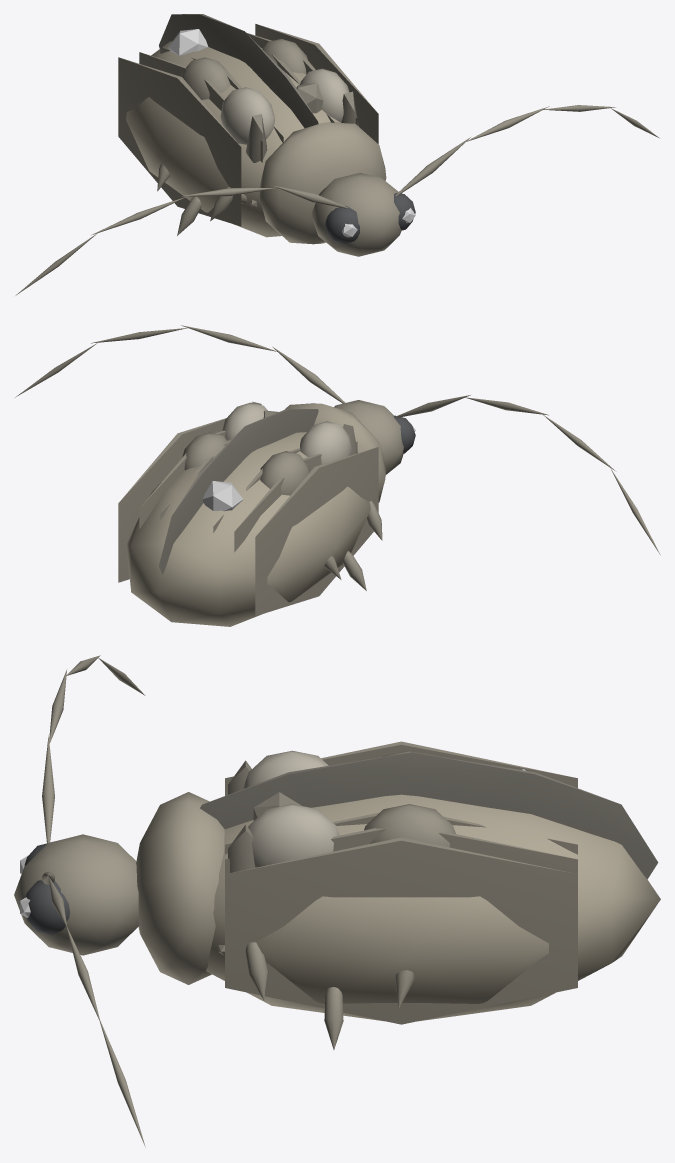
File: rhytiphora-bankii.glb
3 views of the same model, one above another, from view 1: azimuth 30°, elevation 25°; view 2: azimuth 150°, elevation 25°; view 3: azimuth 270°, elevation 25° (orthographic). The views are drawn at different scales.
Parts seen in each view (by area): view 1: elytra, pronotum, head, tubercle0-r, tubercle1-r, tubercle0-l, eye-r, tubercle1-l, eye-l, antenna-l0, antenna-r1, leg1-r0 (+3 smaller); view 2: elytra, head, pronotum, tubercle0-r, tubercle1-r, tubercle1-l, tubercle0-l, antenna-l0, antenna-l1, antenna-r0; view 3: elytra, pronotum, head, tubercle0-l, tubercle1-l, eye-l, tubercle0-r, leg1-l0, antenna-r0, leg0-l0.
Boxes of the visible parts, box(x1,y1,x2,y2) form: elytra: box(118, 14, 378, 237); pronotum: box(259, 122, 386, 244); head: box(311, 172, 401, 256); tubercle0-r: box(220, 87, 274, 144); tubercle1-r: box(181, 57, 230, 99); tubercle0-l: box(300, 68, 349, 122); eye-r: box(325, 205, 359, 244); tubercle1-l: box(262, 38, 307, 74); eye-l: box(394, 193, 415, 230); antenna-l0: box(395, 137, 470, 195); antenna-r1: box(180, 187, 276, 196); leg1-r0: box(177, 196, 201, 235); elytra: box(118, 401, 378, 626); head: box(334, 400, 403, 474); pronotum: box(285, 403, 386, 502); tubercle0-r: box(300, 421, 352, 464); tubercle1-r: box(260, 451, 309, 495); tubercle1-l: box(182, 432, 227, 470); tubercle0-l: box(222, 402, 267, 440); antenna-l0: box(272, 346, 345, 403); antenna-l1: box(181, 325, 277, 351); antenna-r0: box(395, 395, 470, 417); elytra: box(200, 741, 660, 1024); pronotum: box(136, 792, 224, 984); head: box(14, 834, 139, 955); tubercle0-l: box(248, 804, 339, 867); tubercle1-l: box(364, 804, 455, 847); eye-l: box(20, 880, 69, 935); tubercle0-r: box(243, 750, 328, 788); leg1-l0: box(324, 987, 343, 1049); antenna-r0: box(42, 735, 54, 843); leg0-l0: box(245, 942, 268, 1000).
Bounding box in the file's own units: 1.11 × 0.2926 × 0.6723.
